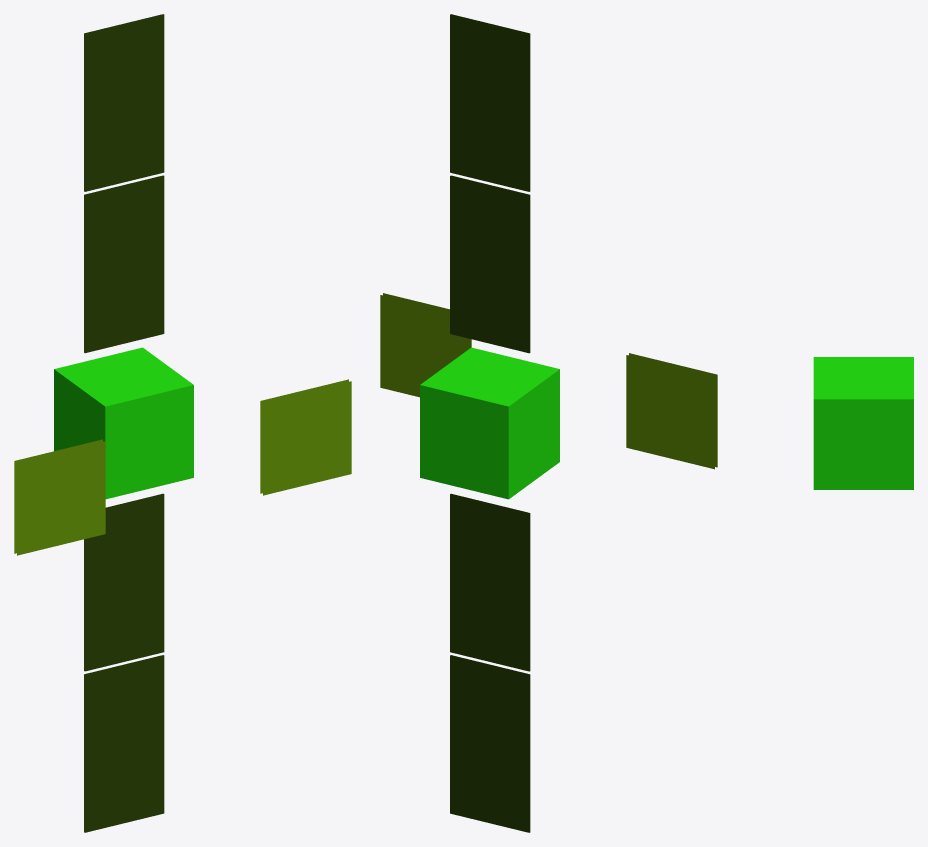
Rendered from tdrs_simple_plate_tri.obj.
3 renders of one model, left to right at view 1: azimuth 30°, elevation 25°; view 2: azimuth 150°, elevation 25°; view 3: azimuth 270°, elevation 25°, orthographic. The views are drawn at different scales.
Parts seen in each view (by area): view 1: Plane; view 2: Plane; view 3: Plane.
Part boxes in pixels (box(x1,y1,x2,y2)): Plane: box(14, 14, 351, 832); Plane: box(380, 14, 717, 832); Plane: box(813, 357, 913, 489).
Size of the model in its own units: 7.54 by 17.21 by 3.35.
